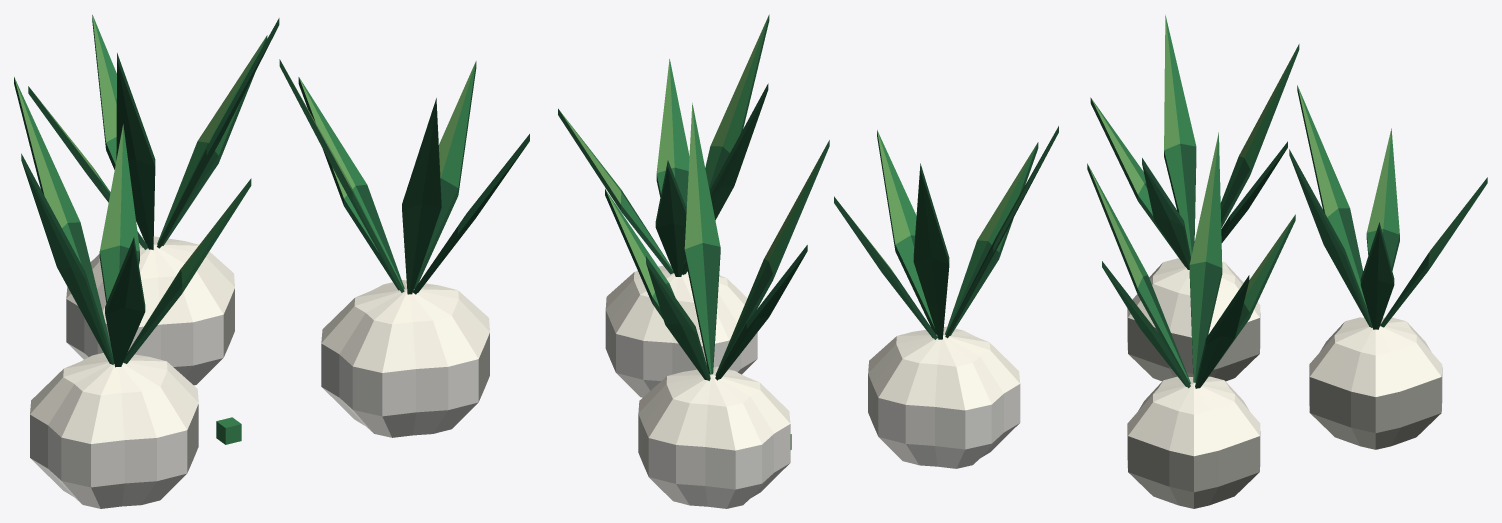
The model's file is garlic_stage_03.fbx.
3 views of the same model, side by side, from view 1: azimuth 30°, elevation 25°; view 2: azimuth 150°, elevation 25°; view 3: azimuth 270°, elevation 25° (orthographic). The views are drawn at different scales.
Parts seen in each view (by area): view 1: garlic_stage_03__Foliage, garlic_stage_03__Origin; view 2: garlic_stage_03__Foliage; view 3: garlic_stage_03__Foliage.
Boxes of the visible parts, <box> form: garlic_stage_03__Foliage: <box>14,14,529,508</box>; garlic_stage_03__Origin: <box>216,417,241,444</box>; garlic_stage_03__Foliage: <box>558,14,1058,508</box>; garlic_stage_03__Foliage: <box>1087,15,1487,508</box>.
Size of the model in its own units: 1.25 by 0.9144 by 1.03.
1 material, 1 textured.
